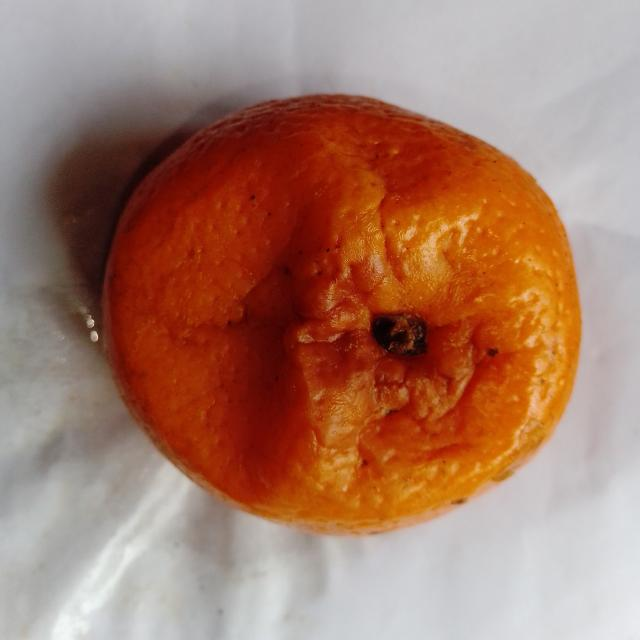orange: (104, 96, 580, 532)
